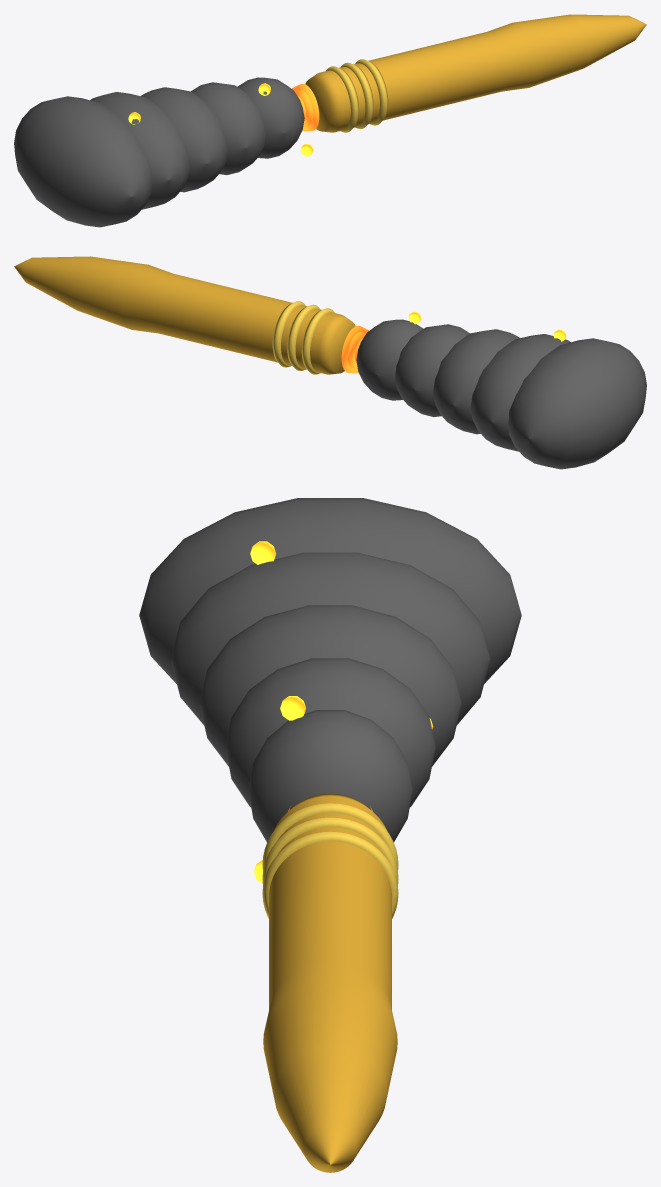
The model's file is projectile.glb.
3 views of the same model, one above another, from view 1: azimuth 30°, elevation 25°; view 2: azimuth 150°, elevation 25°; view 3: azimuth 270°, elevation 25° (orthographic). The views are drawn at different scales.
Parts seen in each view (by area): view 1: Smoke1, ProjectileBody, FireTrail1, Spark1; view 2: Smoke1, ProjectileBody, FireTrail1; view 3: Smoke1, ProjectileBody, Spark1.
Boxes of the visible parts, <box> form: Smoke1: <box>14,77,304,227</box>; ProjectileBody: <box>305,14,646,132</box>; FireTrail1: <box>291,83,319,131</box>; Spark1: <box>128,83,313,156</box>; Smoke1: <box>356,319,646,469</box>; ProjectileBody: <box>14,256,355,374</box>; FireTrail1: <box>341,325,369,373</box>; Smoke1: <box>139,498,521,842</box>; ProjectileBody: <box>262,793,398,1172</box>; Spark1: <box>250,541,433,883</box>.
Size of the model in its own units: 3.8 by 0.622 by 1.02.
Materials: 4 (4 with a texture image).
